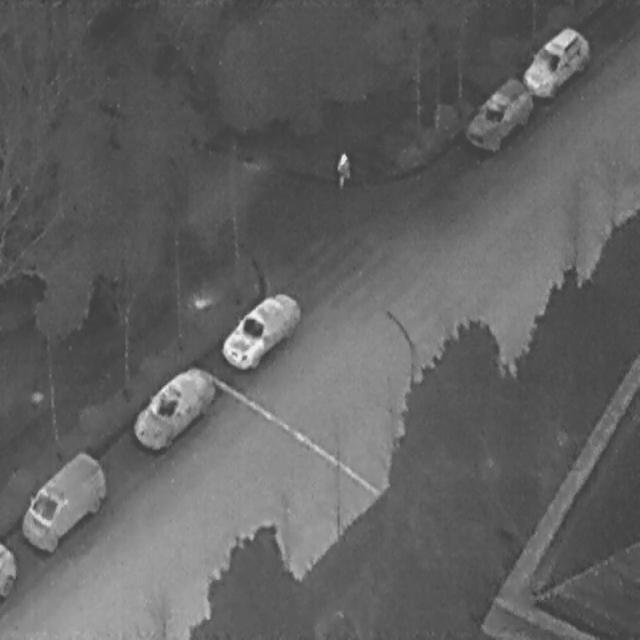Car: (8, 438, 115, 564), (126, 352, 219, 462), (214, 274, 305, 382), (461, 68, 538, 164), (516, 16, 593, 106)
Person: (336, 148, 350, 188)
